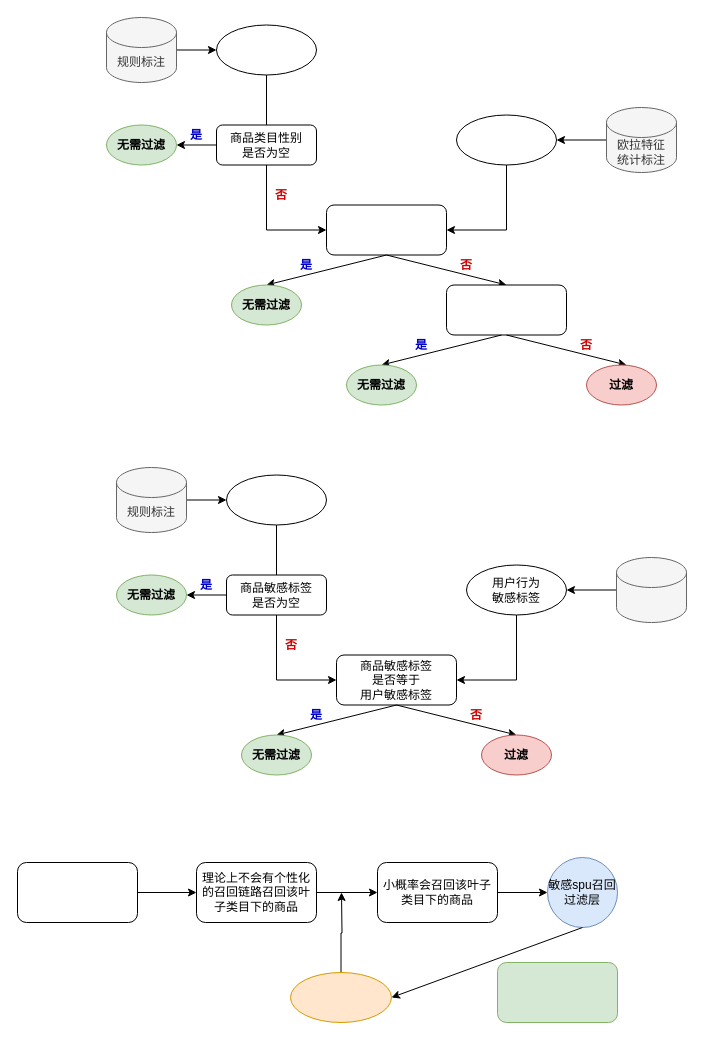
Some shapes in this 704 by 1040 pixel diagram are drawn without their labels. The shapes that lost their labels are listed below. From the top down, each one's centre as x and y in pixels, then its label:
At (x=266, y=49): "商品类目性别".
At (x=506, y=139): "用户基础性别 用户行为性别".
At (x=386, y=229): "商品类目性别 是否等于 用户基础性别".
At (x=506, y=309): "商品类目性别 是否等于 用户行为性别".
At (x=276, y=499): "商品类目 敏感标签".
At (x=651, y=589): "统计标注".
At (x=77, y=892): "对某个叶子类目下无点击or无购买行为".
At (x=341, y=997): "其他类型召回 如热门召回".
At (x=557, y=992): "例如，对一个男性用户，热门召回了一款女鞋，那么会被过滤".
